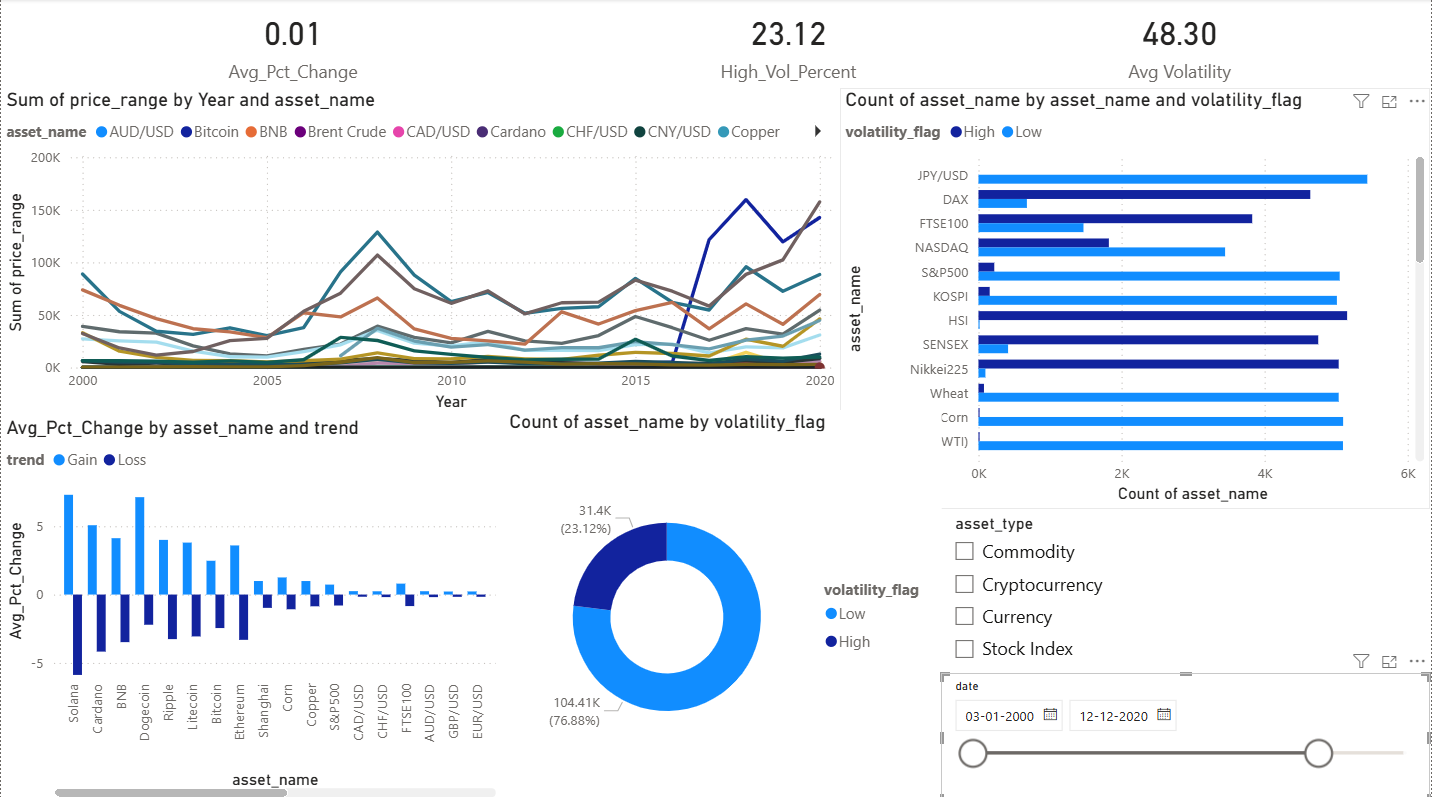

The dashboard page shown, as its layout file describes it:
{"tool":"powerbi","page":{"name":"Page 1","canvas":[1280,720],"ordinal":0},"visuals":[{"type":"lineChart","fields":{"Category":["modified_financial_data.date.Variation.Date Hierarchy.Year","modified_financial_data.date.Variation.Date Hierarchy.Quarter","modified_financial_data.date.Variation.Date Hierarchy.Month","modified_financial_data.date.Variation.Date Hierarchy.Day"],"Y":["Sum(modified_financial_data.price_range)"],"Series":["modified_financial_data.asset_name"]},"box":[0,79.8,751.2,293.6],"z":0},{"type":"card","fields":{"Values":["modified_financial_data.Avg Volatility"]},"box":[841,0,429,79.8],"z":1000},{"type":"card","fields":{"Values":["modified_financial_data.Avg_Pct_Change"]},"box":[0,0,523.1,79.8],"z":2000},{"type":"card","fields":{"Values":["modified_financial_data.High_Vol_Percent"]},"box":[449,0,513.1,79.8],"z":3000},{"type":"clusteredBarChart","fields":{"Category":["modified_financial_data.asset_name"],"Series":["modified_financial_data.volatility_flag"],"Y":["CountNonNull(modified_financial_data.asset_name)"]},"box":[751.7,80,528.3,376.7],"z":4000},{"type":"clusteredColumnChart","fields":{"Y":["modified_financial_data.Avg_Pct_Change"],"Category":["modified_financial_data.asset_name"],"Series":["modified_financial_data.trend"]},"box":[0,373.3,448.3,346.7],"z":5000},{"type":"donutChart","fields":{"Y":["CountNonNull(modified_financial_data.asset_name)"],"Category":["modified_financial_data.volatility_flag"]},"box":[450,368.3,391.7,351.7],"z":6000},{"type":"slicer","fields":{"Values":["modified_financial_data.asset_type"]},"box":[841.7,456.7,428.3,146.7],"z":7000},{"type":"slicer","fields":{"Values":["modified_financial_data.date"]},"box":[841.7,603.3,428.3,116.7],"z":8000}]}

Visuals, with their boxes in screenshot pixels (x1, y1, x2, y2), scaled from the page's 1280x720 canvas onto the 1432x797 screenshot:
lineChart - modified_financial_data.date.Variation.Date Hierarchy.Year x modified_financial_data.date.Variation.Date Hierarchy.Quarter: bbox(0, 88, 840, 413)
card - modified_financial_data.Avg Volatility: bbox(941, 0, 1421, 88)
card - modified_financial_data.Avg_Pct_Change: bbox(0, 0, 585, 88)
card - modified_financial_data.High_Vol_Percent: bbox(502, 0, 1076, 88)
clusteredBarChart - modified_financial_data.asset_name x modified_financial_data.volatility_flag: bbox(841, 89, 1431, 506)
clusteredColumnChart - modified_financial_data.Avg_Pct_Change x modified_financial_data.asset_name: bbox(0, 413, 502, 796)
donutChart - CountNonNull(modified_financial_data.asset_name) x modified_financial_data.volatility_flag: bbox(503, 408, 942, 796)
slicer - modified_financial_data.asset_type: bbox(942, 506, 1421, 668)
slicer - modified_financial_data.date: bbox(942, 668, 1421, 796)
